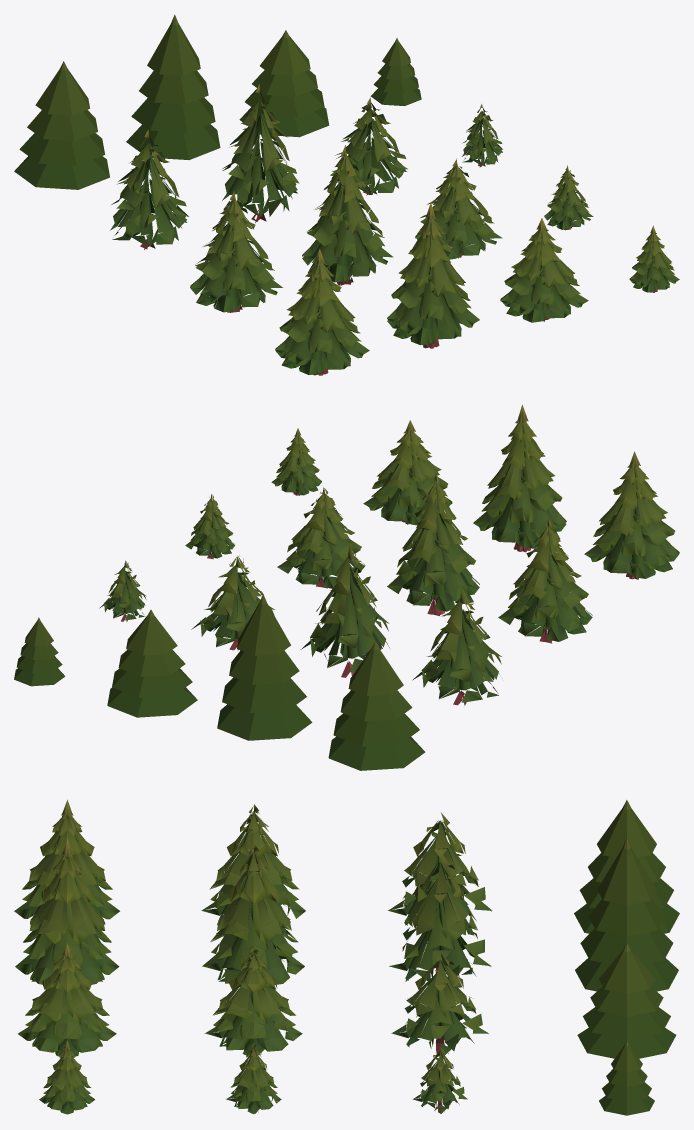
The model's file is pines_meshy.glb.
3 views of the same model, one above another, from view 1: azimuth 30°, elevation 25°; view 2: azimuth 150°, elevation 25°; view 3: azimuth 270°, elevation 25° (orthographic). The views are drawn at different scales.
Parts seen in each view (by area): view 1: mpine_tall_lod, mpine_lod, mpine_tall, mpine, mpine_tall_mid, mpine_mid, mpine_tall_far, mpine_broad_lod, mpine_far, mpine_broad, mpine_broad_mid, mpine_broad_far (+4 smaller); view 2: mpine_tall_lod, mpine_lod, mpine_tall, mpine_tall_mid, mpine, mpine_mid, mpine_broad_lod, mpine_tall_far, mpine_far, mpine_broad_mid, mpine_broad, mpine_broad_far (+4 smaller); view 3: mpine_tall_lod, mpine_tall, mpine_tall_mid, mpine_broad_lod, mpine_tall_far, mpine_broad, mpine_broad_mid, mpine_broad_far, mpine_lod, mpine, mpine_mid, mpine_far (+4 smaller).
Boxes of the visible parts, x1,y1,x2,y2 form: mpine_tall_lod: (126, 14, 220, 159); mpine_lod: (14, 61, 109, 189); mpine_tall: (387, 202, 479, 348); mpine: (275, 249, 369, 375); mpine_tall_mid: (302, 145, 393, 285); mpine_mid: (190, 190, 282, 312); mpine_tall_far: (222, 84, 299, 222); mpine_broad_lod: (239, 30, 329, 137); mpine_far: (110, 130, 188, 249); mpine_broad: (500, 218, 588, 322); mpine_broad_mid: (415, 158, 502, 259); mpine_broad_far: (330, 97, 407, 195); mpine_tall_lod: (217, 594, 312, 740); mpine_lod: (328, 640, 425, 770); mpine_tall: (473, 404, 566, 552); mpine_tall_mid: (387, 473, 479, 615); mpine: (584, 451, 679, 579); mpine_mid: (498, 519, 592, 643); mpine_broad_lod: (107, 609, 197, 717); mpine_tall_far: (300, 545, 389, 677); mpine_far: (412, 589, 501, 705); mpine_broad_mid: (277, 487, 365, 588); mpine_broad: (363, 420, 452, 525); mpine_broad_far: (191, 555, 274, 650); mpine_tall_lod: (575, 838, 678, 991); mpine_tall: (15, 837, 119, 984); mpine_tall_mid: (202, 843, 304, 984); mpine_broad_lod: (577, 943, 676, 1058); mpine_tall_far: (389, 853, 491, 981); mpine_broad: (18, 943, 116, 1056); mpine_broad_mid: (204, 947, 302, 1055); mpine_broad_far: (391, 954, 488, 1055); mpine_lod: (574, 800, 679, 933); mpine: (14, 799, 119, 924); mpine_mid: (201, 804, 305, 925); mpine_far: (388, 812, 492, 925).
Size of the model in its own units: 21.34 by 7.45 by 28.55.
